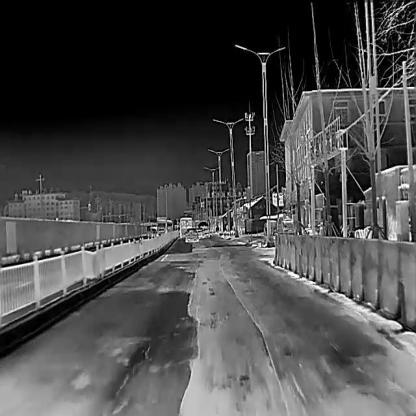car: (179, 217, 192, 236), (185, 228, 198, 242), (157, 217, 166, 233), (200, 225, 210, 237), (166, 220, 172, 232), (197, 227, 203, 237)
